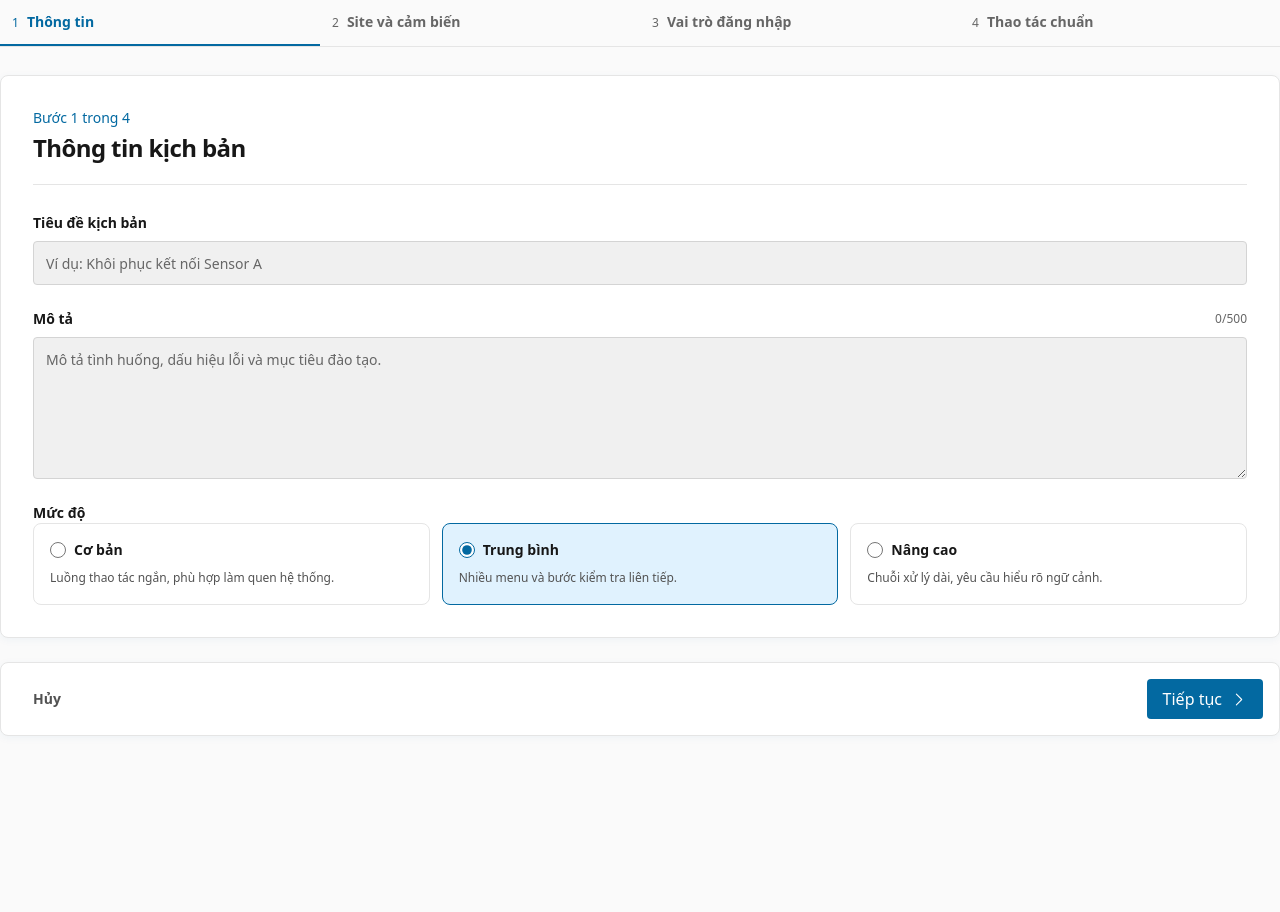
Test: ScenarioWizardForm › blocks the first step until required metadata is valid
The width and height of the screenshot is (1280, 912).
Click the button "Tiếp tục": (1205, 699) [1147,679,1263,719]
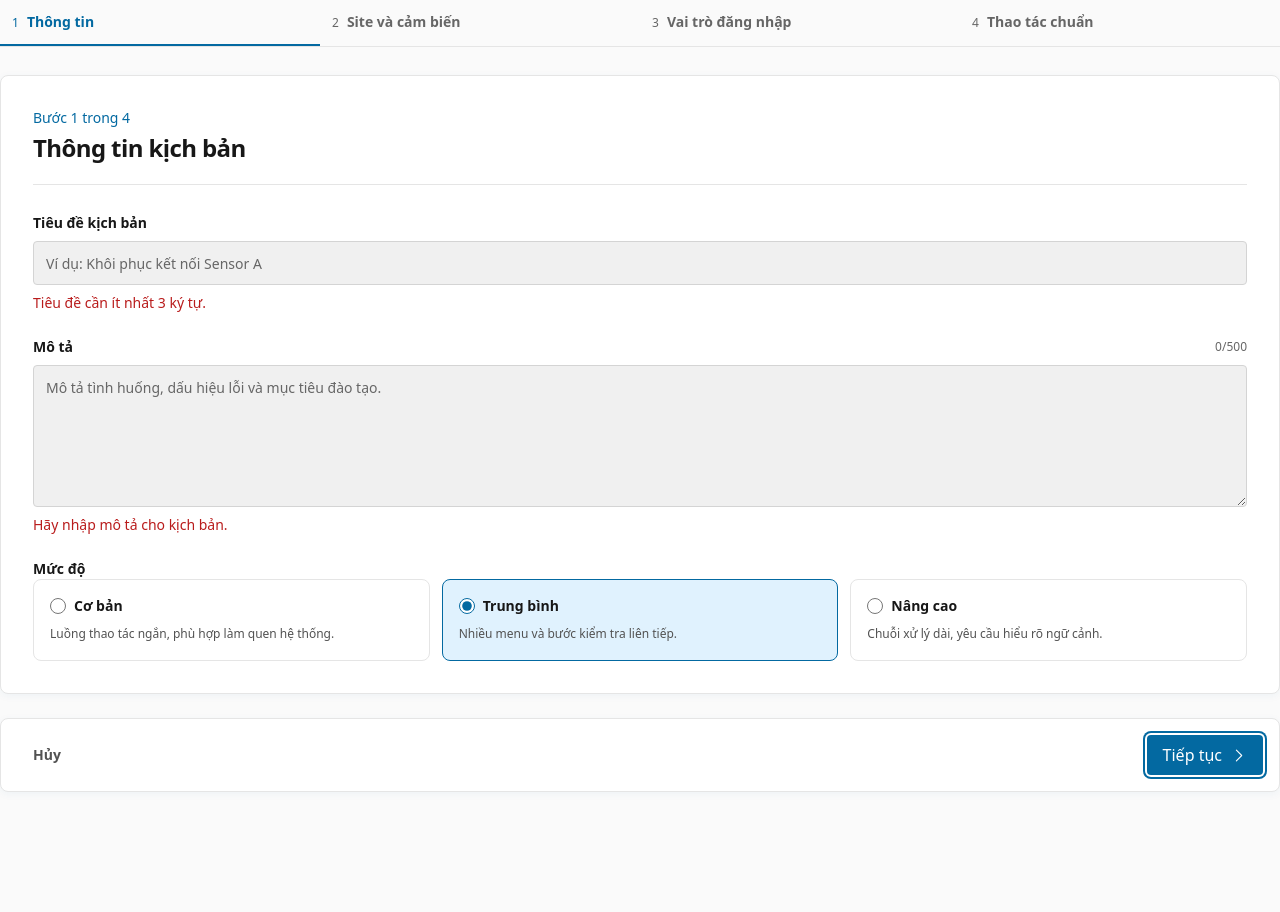
Check: the heading "Thông tin kịch bản" is shown, box [33,131,246,164]
Check: the text "Tiêu đề cần ít nhất 3 ký tự." is shown, box [33,293,206,312]
Check: the text "Hãy nhập mô tả cho kịch bản." is shown, box [33,515,228,534]
